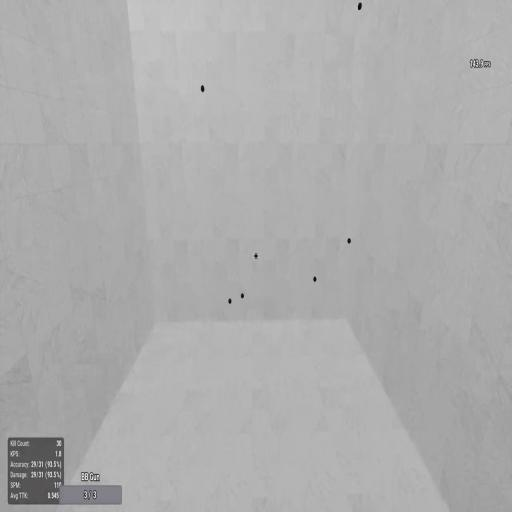Crosshair: (254, 252, 258, 260)
Target: (240, 292, 245, 300), (200, 84, 205, 92), (358, 1, 362, 11), (228, 298, 232, 304), (313, 276, 317, 282), (347, 238, 351, 244)
